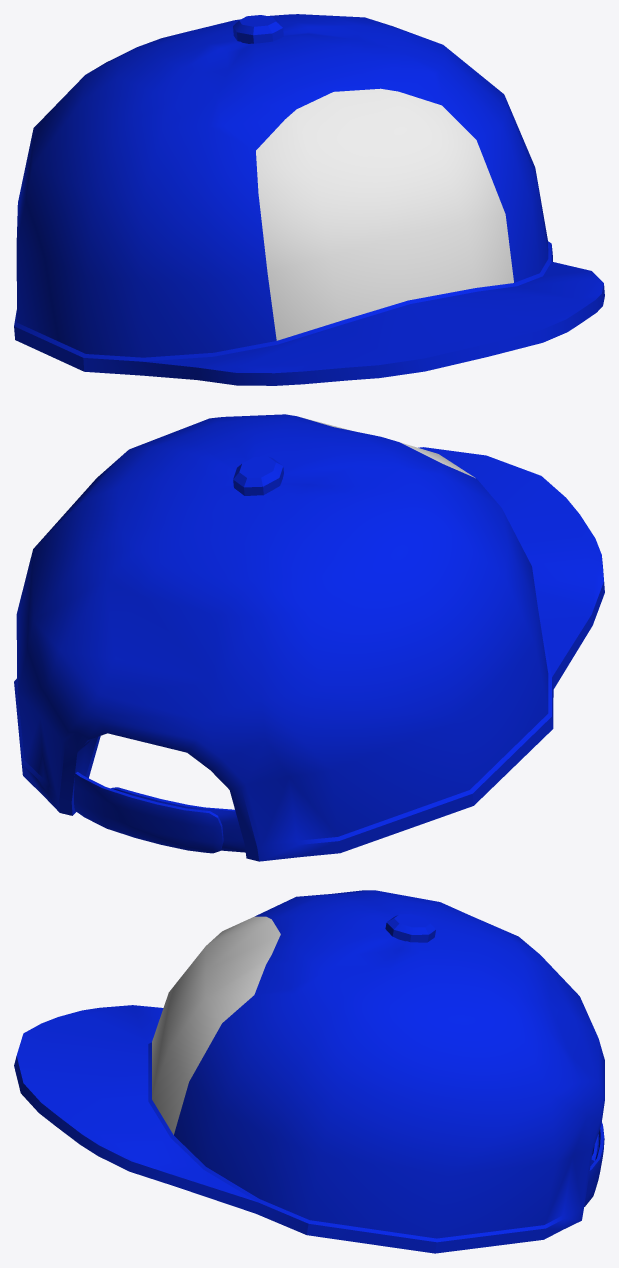
Rendered from Head_Cap_Blue.fbx.
3 views of the same model, one above another, from view 1: azimuth 30°, elevation 25°; view 2: azimuth 150°, elevation 25°; view 3: azimuth 270°, elevation 25° (orthographic). The views are drawn at different scales.
Visible parts, largest first — view 1: Head_Cap_Blue; view 2: Head_Cap_Blue; view 3: Head_Cap_Blue.
Boxes of the visible parts, x1,y1,x2,y2 form: Head_Cap_Blue: (14, 14, 604, 385); Head_Cap_Blue: (14, 414, 604, 861); Head_Cap_Blue: (14, 890, 604, 1253).
Bounding box in the file's own units: 101 × 62.13 × 128.
